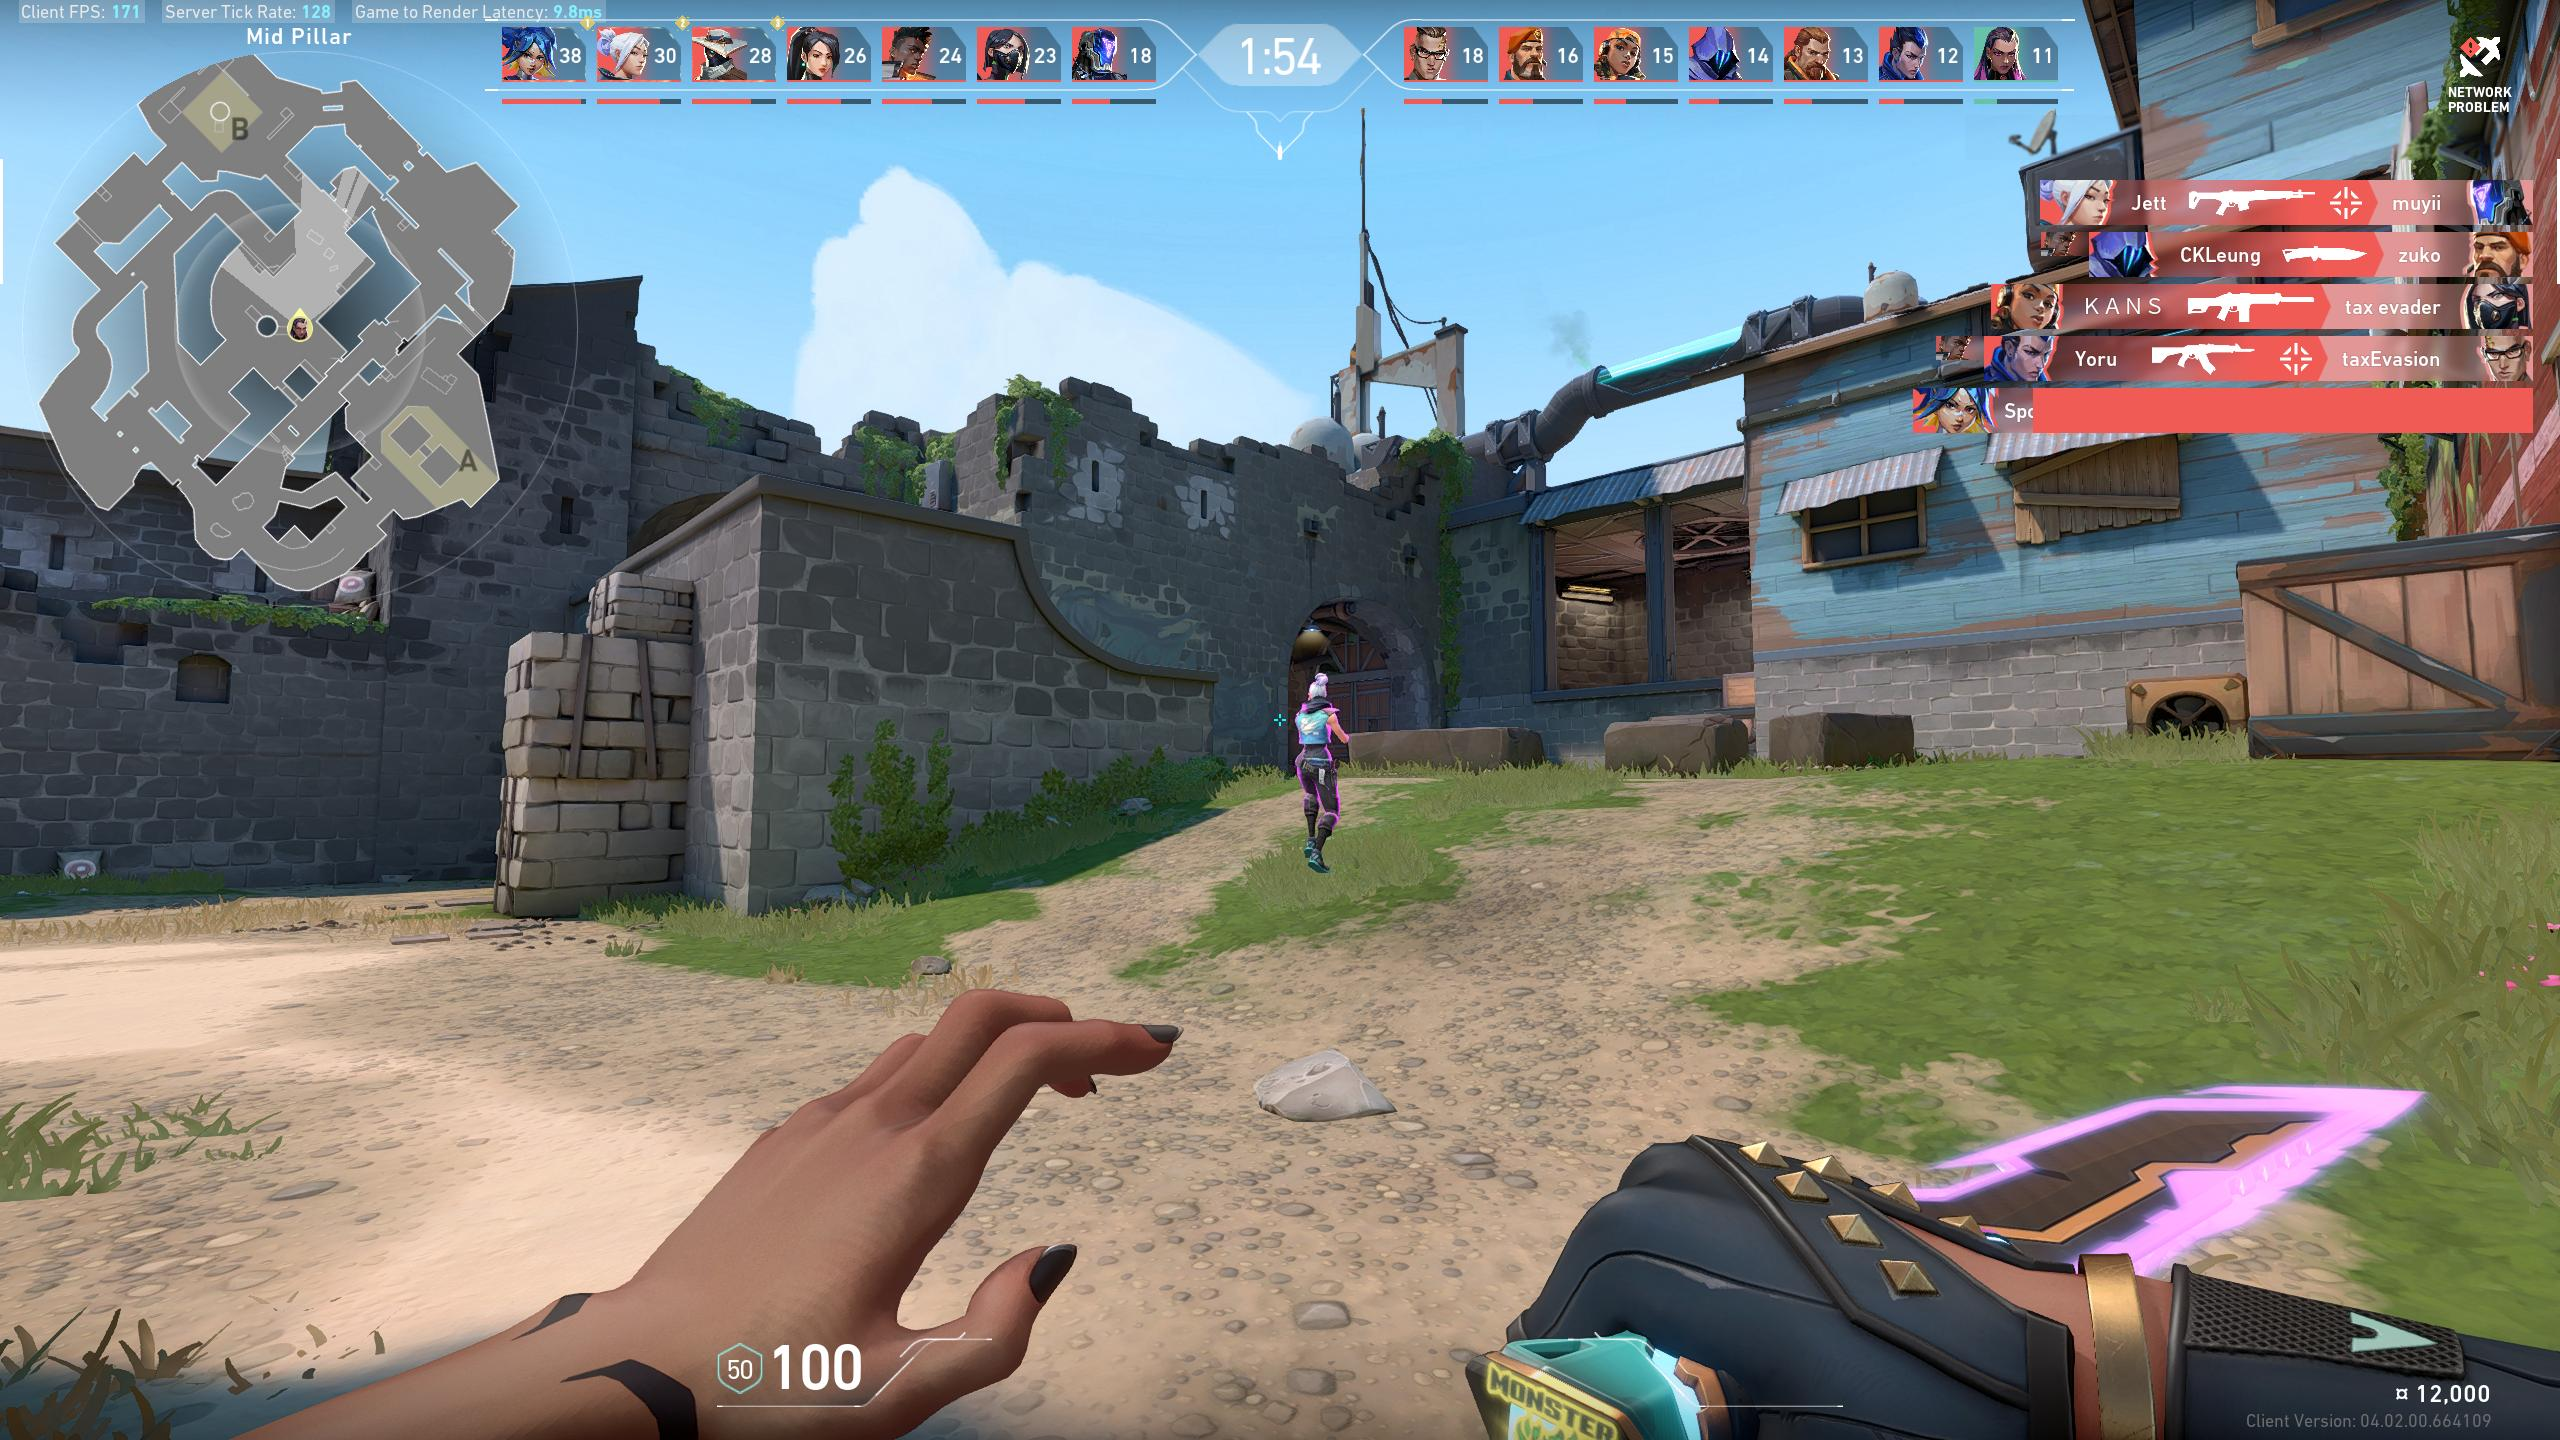enemyBody: (1301, 710, 1329, 767)
enemyHead: (1313, 686, 1324, 702)
